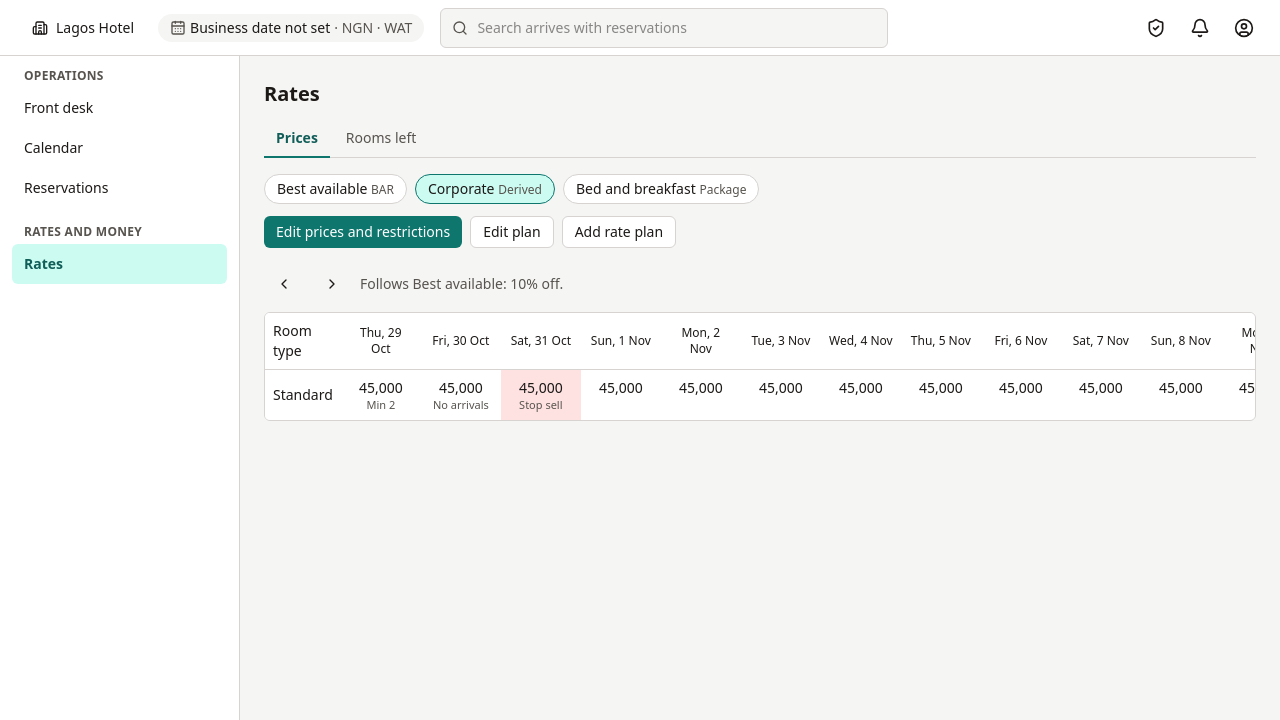
Test: Bulk edit › offers no price on a derived plan
Click the button "Edit prices and restrictions": point(363, 232) [264, 216, 462, 248]
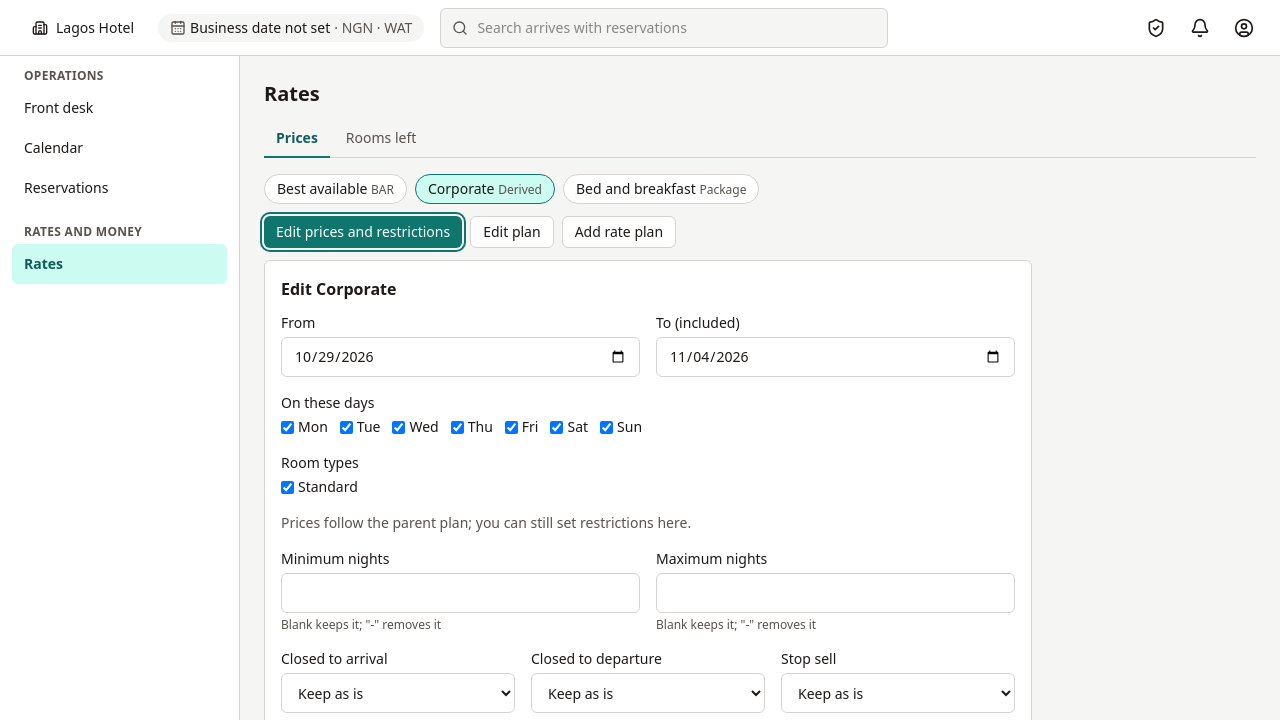
Check: the text "Prices follow the parent plan" is shown, box [281, 513, 691, 532]
